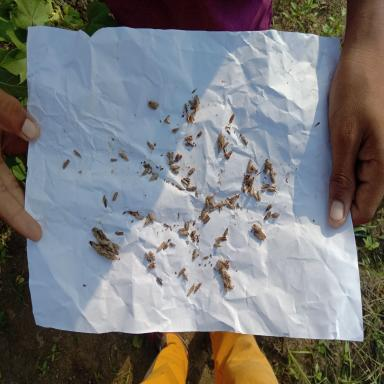pbw: (223, 147, 234, 159), (264, 158, 273, 172), (217, 132, 223, 152), (227, 113, 235, 127), (194, 280, 203, 292), (148, 100, 158, 110), (140, 168, 150, 178), (268, 185, 277, 196), (269, 171, 276, 184), (127, 210, 140, 217), (179, 265, 187, 275), (218, 258, 228, 266), (214, 202, 225, 209), (63, 158, 70, 169), (164, 114, 171, 125), (195, 94, 199, 112), (102, 196, 108, 208), (145, 252, 152, 262), (186, 114, 192, 125), (244, 173, 250, 184), (74, 150, 82, 158), (231, 193, 240, 200), (148, 213, 155, 222), (112, 191, 118, 201), (157, 276, 163, 286), (149, 174, 159, 180), (149, 250, 155, 260), (183, 271, 189, 281), (249, 176, 255, 186), (251, 165, 258, 173), (148, 262, 156, 269), (264, 211, 271, 219), (188, 167, 195, 175), (147, 141, 154, 149), (201, 206, 206, 217), (184, 135, 193, 141), (169, 152, 174, 162), (115, 231, 125, 236), (226, 197, 233, 204), (181, 178, 188, 185), (184, 102, 188, 114), (204, 216, 210, 224), (221, 136, 225, 148), (144, 217, 150, 225), (258, 188, 262, 200), (218, 236, 227, 241), (209, 199, 214, 208), (271, 213, 280, 218), (190, 230, 196, 237), (196, 130, 202, 137), (266, 204, 273, 210), (172, 127, 179, 133), (253, 191, 257, 201), (186, 141, 194, 146), (185, 222, 190, 230), (171, 169, 179, 174), (250, 186, 254, 196), (205, 200, 210, 208), (214, 243, 222, 248), (262, 184, 270, 189), (190, 108, 196, 114), (224, 227, 228, 236), (188, 186, 197, 190), (242, 184, 246, 193), (189, 100, 195, 106), (206, 195, 215, 199), (242, 136, 246, 144), (169, 160, 175, 165), (264, 163, 267, 173), (137, 215, 144, 219), (170, 242, 176, 246), (190, 106, 195, 109)
